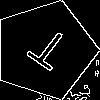T: (19, 25, 74, 79)
